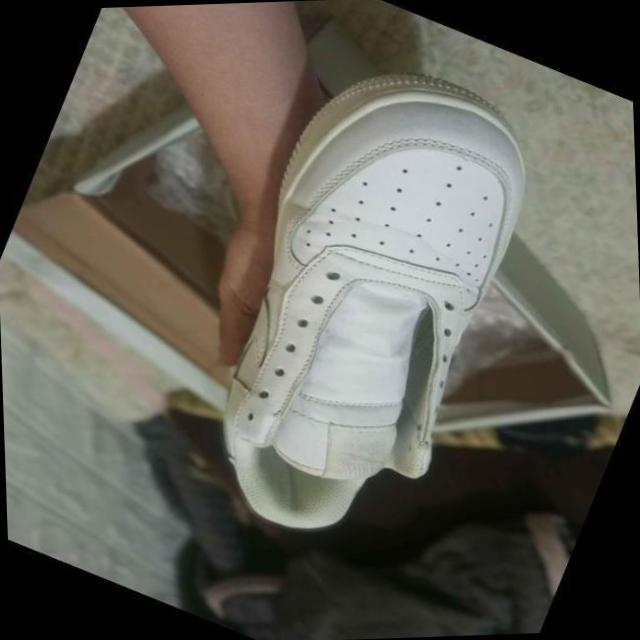nike_fake_airforce: (145, 22, 592, 576)
